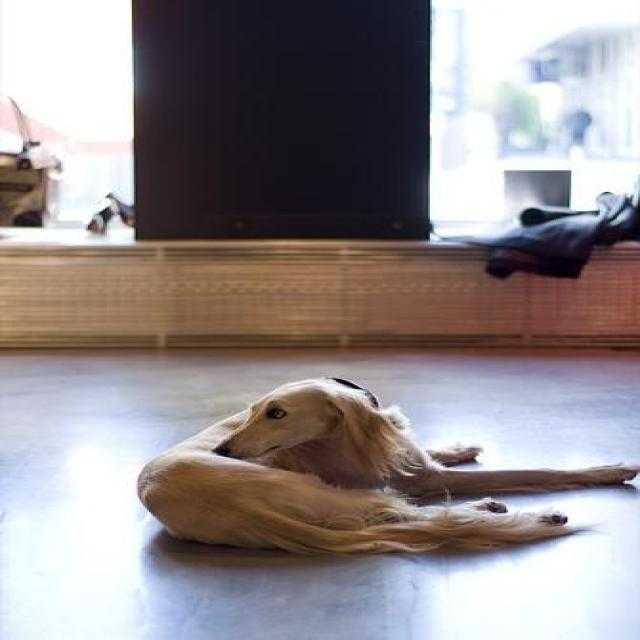saluki: (130, 373, 636, 563)
